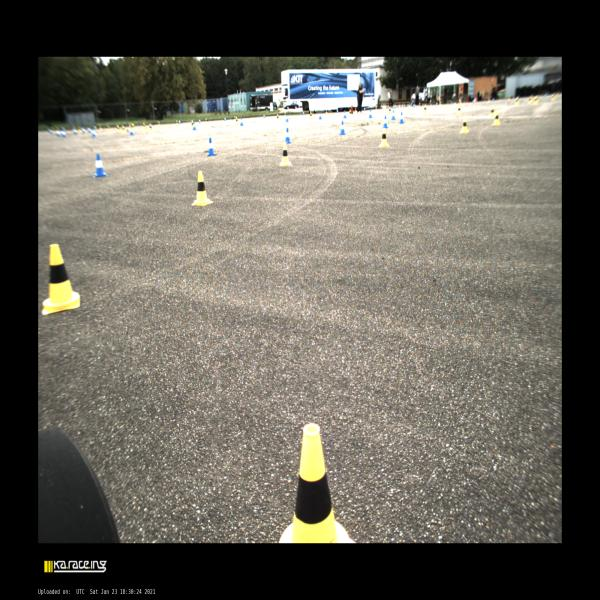blue_cone: (94, 154, 107, 177), (207, 138, 216, 156), (285, 128, 292, 144), (339, 120, 346, 135), (382, 116, 388, 128), (399, 112, 404, 124), (391, 110, 396, 120), (91, 128, 96, 138), (61, 130, 66, 138), (81, 126, 86, 134), (130, 126, 134, 136), (343, 110, 347, 118), (285, 114, 289, 122), (240, 118, 244, 126), (192, 122, 196, 130), (56, 129, 60, 137), (48, 128, 53, 134), (73, 129, 78, 135), (544, 92, 550, 97), (369, 110, 372, 118), (87, 127, 91, 133), (319, 112, 322, 119), (62, 127, 66, 131), (472, 98, 475, 103), (94, 126, 97, 130), (199, 118, 201, 124), (302, 111, 305, 115), (392, 104, 395, 108), (492, 98, 495, 102), (263, 113, 265, 118), (179, 120, 181, 124), (336, 109, 338, 113), (364, 107, 366, 111), (413, 103, 415, 107), (436, 102, 438, 106), (225, 117, 226, 121)
large_orange_cone: (458, 98, 461, 104), (474, 96, 476, 103)
yellow_cone: (279, 423, 355, 543), (42, 244, 80, 315), (192, 171, 214, 206), (279, 144, 292, 166), (378, 128, 390, 148), (459, 116, 469, 133), (492, 110, 500, 126), (489, 106, 496, 118), (456, 105, 462, 116), (533, 95, 539, 105), (551, 92, 556, 101), (514, 98, 519, 106), (528, 94, 532, 104), (423, 105, 427, 114), (149, 123, 153, 132), (235, 117, 239, 125), (131, 123, 135, 131), (388, 107, 392, 114), (51, 126, 55, 133), (78, 126, 82, 133), (122, 126, 126, 133), (276, 114, 280, 121), (99, 124, 103, 130), (117, 125, 120, 132), (349, 109, 352, 116), (507, 96, 511, 101), (556, 91, 560, 96), (107, 125, 110, 131), (143, 123, 146, 129), (205, 118, 208, 124), (191, 120, 193, 128), (310, 112, 312, 120), (325, 109, 328, 114), (487, 98, 490, 103), (439, 102, 442, 106), (459, 100, 462, 104), (158, 121, 160, 126), (176, 120, 178, 125), (234, 116, 236, 121), (284, 112, 286, 117), (355, 107, 357, 112), (375, 105, 377, 110), (129, 123, 131, 127), (419, 103, 421, 107)
